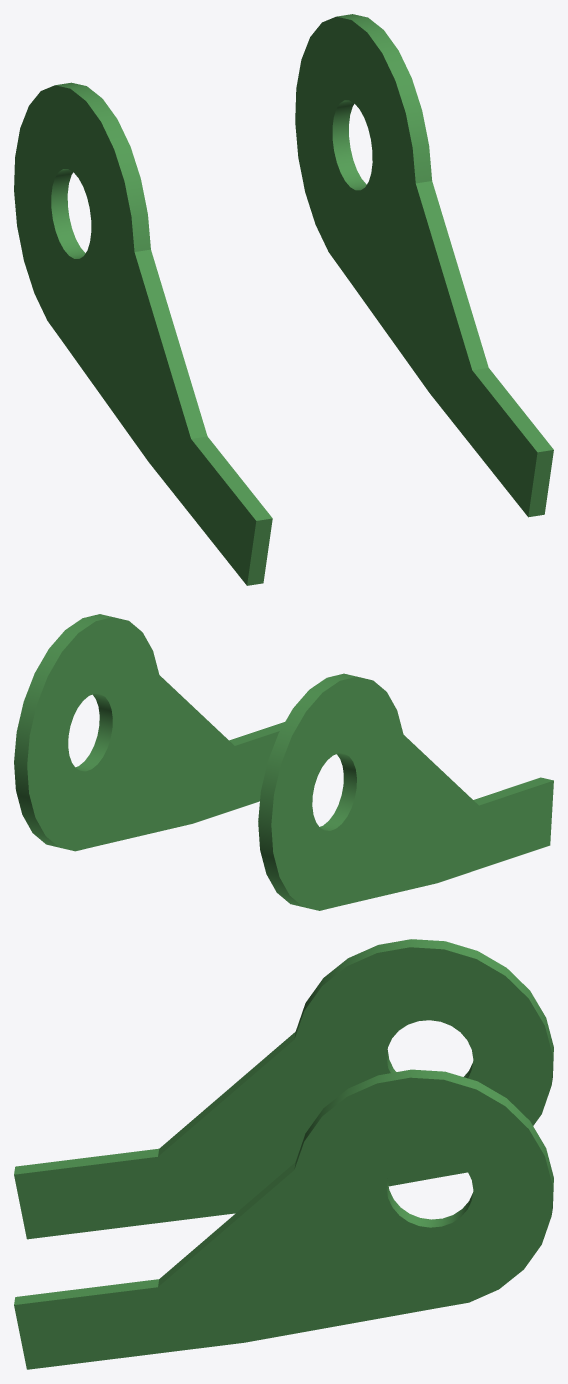
Rendered from JntArm1.dae.
3 views of the same model, one above another, from view 1: azimuth 30°, elevation 25°; view 2: azimuth 150°, elevation 25°; view 3: azimuth 270°, elevation 25° (orthographic). The views are drawn at different scales.
Parts seen in each view (by area): view 1: group_0 (×6); view 2: group_0 (×6); view 3: group_0 (×5).
Boxes of the visible parts, bbox=[...] form: group_0 (×6): bbox=[14, 14, 553, 585]; group_0 (×6): bbox=[14, 614, 553, 910]; group_0 (×5): bbox=[14, 939, 553, 1369].
Size of the model in its own units: 23.82 by 34.16 by 21.77.
